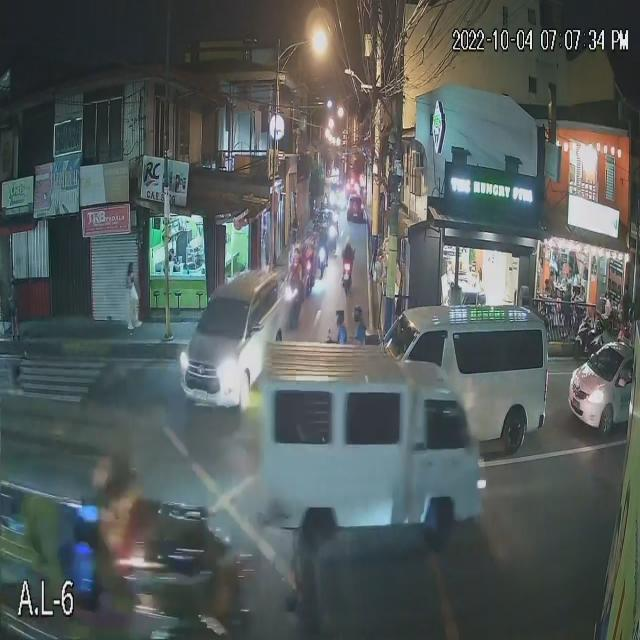motorcycle: (340, 261, 352, 290)
rider: (340, 240, 355, 271)
